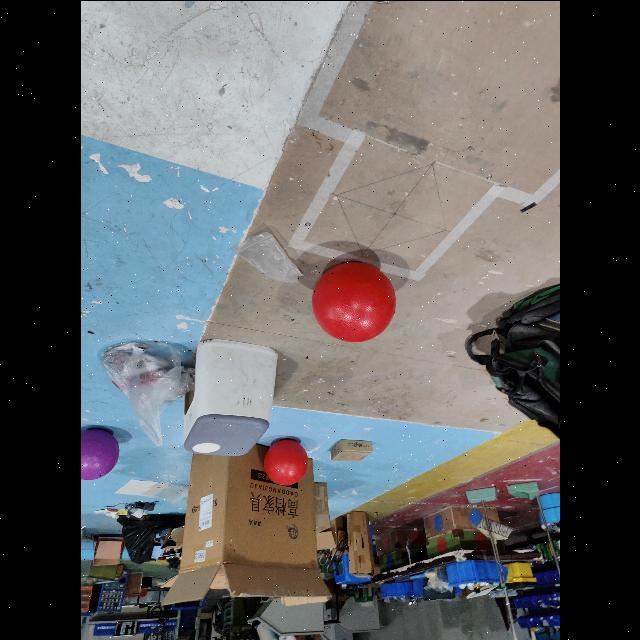P: (80, 423, 118, 482)
R: (312, 260, 396, 342), (263, 437, 307, 485)
